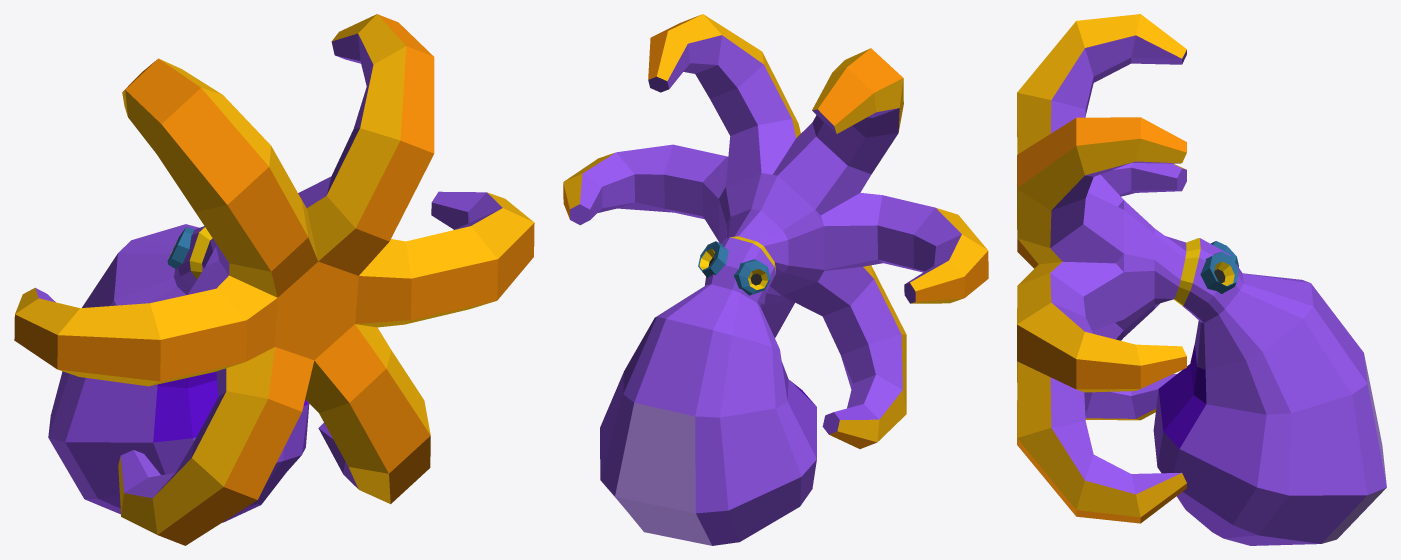
Rendered from ocotopus_1.fbx.
The picture shows the model from 3 angles, left to right: view 1: azimuth 30°, elevation 25°; view 2: azimuth 150°, elevation 25°; view 3: azimuth 270°, elevation 25°; orthographic projection. The views are drawn at different scales.
Parts seen in each view (by area): view 1: ocotopus_1; view 2: ocotopus_1; view 3: ocotopus_1.
Boxes of the visible parts, box(x1,y1,x2,y2) form: ocotopus_1: box(14, 14, 534, 545); ocotopus_1: box(563, 14, 988, 545); ocotopus_1: box(1017, 14, 1386, 545).
Bounding box in the file's own units: 98.38 × 103 × 71.94.
